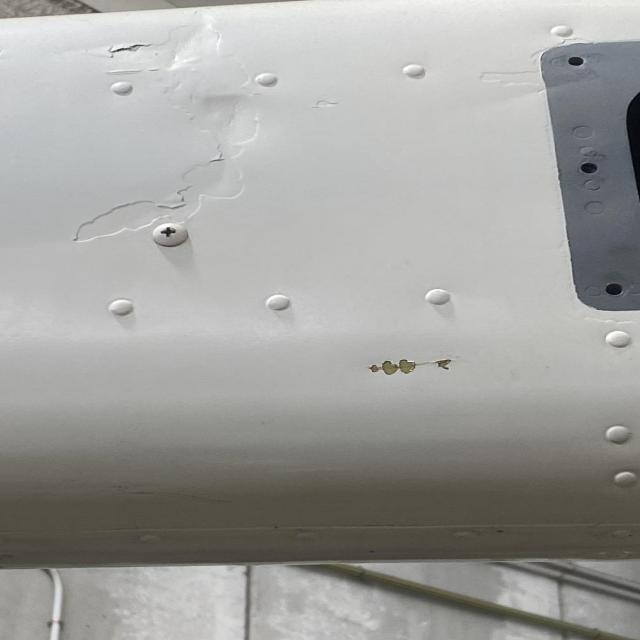Paint-off: (72, 10, 258, 243), (367, 358, 453, 377), (477, 63, 543, 87), (554, 36, 600, 45), (310, 97, 337, 110), (528, 49, 549, 61)
